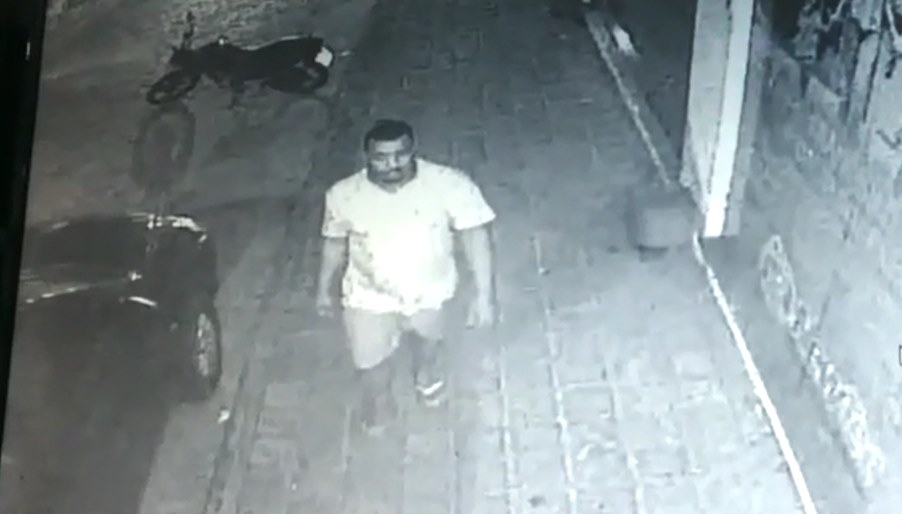Humano: (309, 107, 513, 432)
